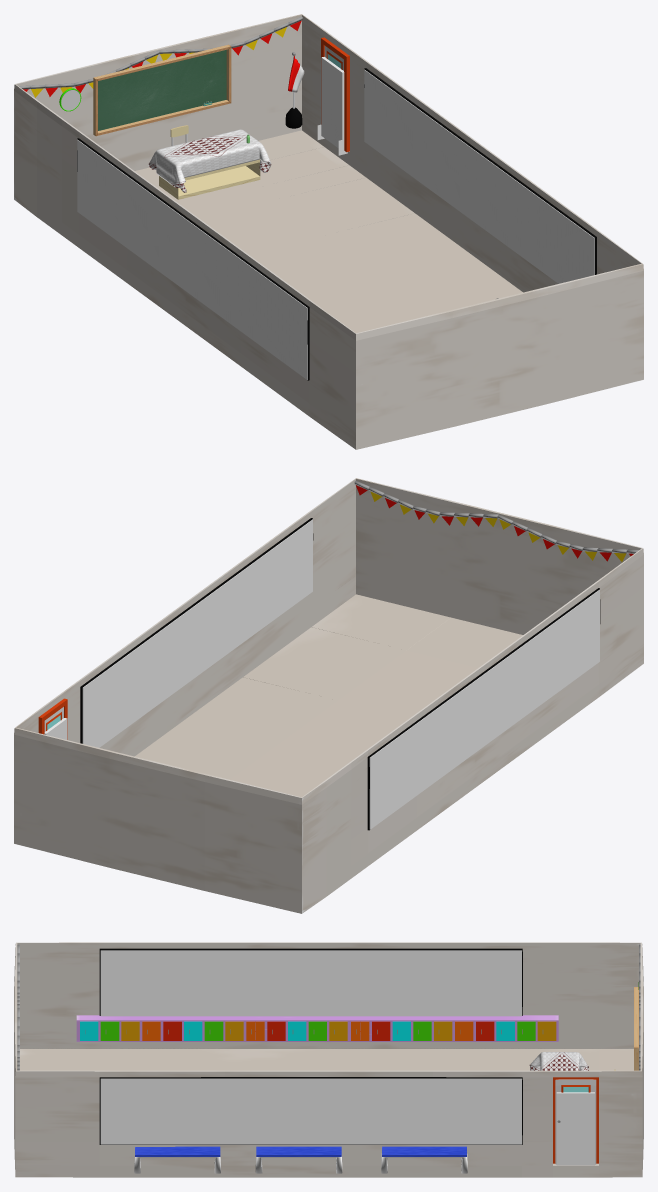
Rendered from (rev2) Enviro 99%.fbx.
3 views of the same model, one above another, from view 1: azimuth 30°, elevation 25°; view 2: azimuth 150°, elevation 25°; view 3: azimuth 270°, elevation 25° (orthographic). The views are drawn at different scales.
Parts seen in each view (by area): view 1: Lantai, CTRL_Hole.001, CTRL_Hole, Papan Tulis, Kain Meja, CTRL_Hole.004, Meja Guru, Bendera Segitiga, Window.001, DoorFrame, Window.002; view 2: Lantai, CTRL_Hole.001, CTRL_Hole, Bendera Segitiga 2, Window.001, Window.002; view 3: Lantai, CTRL_Hole.001, CTRL_Hole, Loker, CTRL_Hole.004, Window.002, Window.001, Kursi Luar 1, Kursi Luar 2, Kursi Luar 3, Kain Meja, Door (+3 smaller).
Boxes of the visible parts, x1=… form: Lantai: x1=14, y1=14, x2=643, y2=449; CTRL_Hole.001: x1=77, y1=139, x2=307, y2=379; CTRL_Hole: x1=364, y1=69, x2=594, y2=283; Papan Tulis: x1=93, y1=44, x2=231, y2=136; Kain Meja: x1=148, y1=129, x2=271, y2=192; CTRL_Hole.004: x1=321, y1=57, x2=344, y2=147; Meja Guru: x1=159, y1=159, x2=260, y2=199; Bendera Segitiga: x1=19, y1=16, x2=302, y2=97; Window.001: x1=77, y1=138, x2=309, y2=380; DoorFrame: x1=321, y1=37, x2=349, y2=152; Window.002: x1=364, y1=68, x2=596, y2=274; Lantai: x1=14, y1=478, x2=643, y2=913; CTRL_Hole.001: x1=369, y1=589, x2=599, y2=829; CTRL_Hole: x1=82, y1=519, x2=312, y2=747; Bendera Segitiga 2: x1=354, y1=480, x2=638, y2=561; Window.001: x1=367, y1=588, x2=600, y2=830; Window.002: x1=80, y1=518, x2=313, y2=743; Lantai: x1=14, y1=942, x2=643, y2=1177; CTRL_Hole.001: x1=100, y1=950, x2=521, y2=1016; CTRL_Hole: x1=100, y1=1078, x2=521, y2=1144; Loker: x1=76, y1=1015, x2=558, y2=1041; CTRL_Hole.004: x1=556, y1=1092, x2=594, y2=1165; Window.002: x1=99, y1=1077, x2=522, y2=1144; Window.001: x1=99, y1=948, x2=522, y2=1015; Kursi Luar 1: x1=381, y1=1146, x2=467, y2=1173; Kursi Luar 2: x1=255, y1=1146, x2=342, y2=1173; Kursi Luar 3: x1=134, y1=1146, x2=220, y2=1173; Kain Meja: x1=529, y1=1052, x2=588, y2=1070; Door: x1=555, y1=1079, x2=596, y2=1164.
Size of the model in its own units: 1631 by 585 by 3138.
36 materials, 7 textured.
